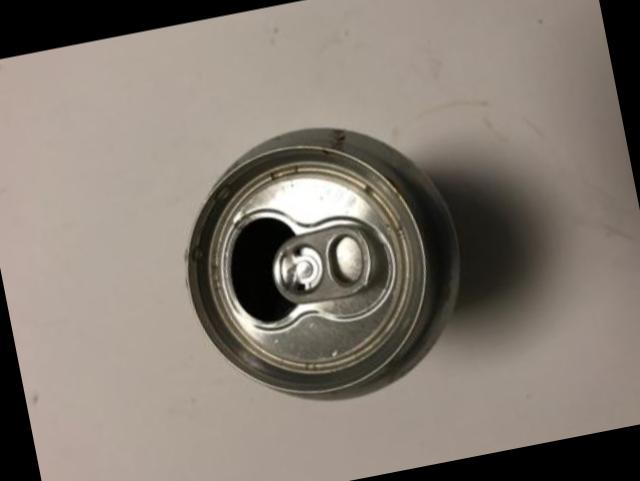metal: (186, 131, 456, 401)
